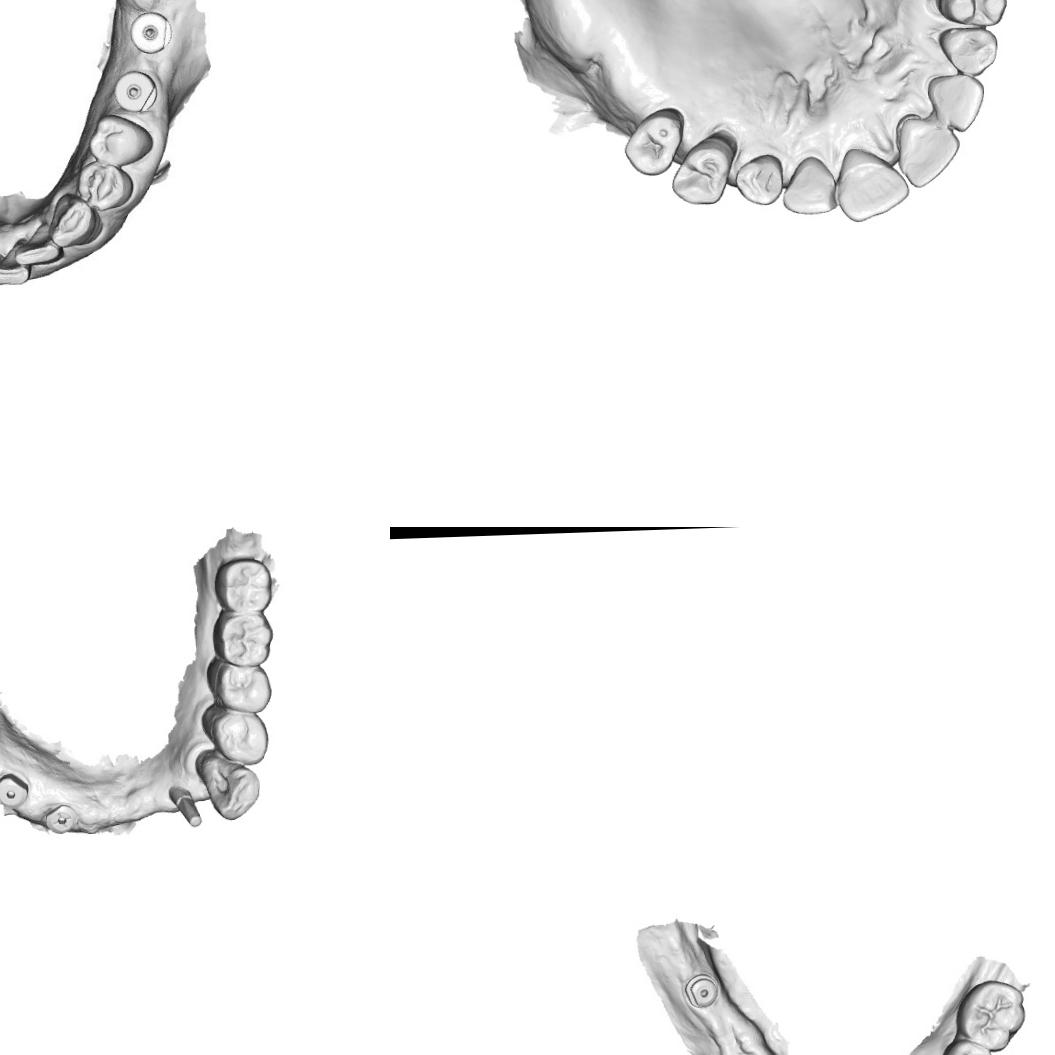abutment: (167, 782, 204, 833)
canine: (196, 750, 264, 822), (931, 24, 1003, 78), (732, 151, 787, 211), (52, 199, 106, 251)
implant: (112, 70, 164, 119), (128, 10, 173, 60), (682, 972, 720, 1009), (0, 771, 30, 809)
implant_plus: (40, 801, 80, 835)
incisor: (832, 142, 912, 224), (892, 114, 963, 190), (922, 71, 988, 135), (780, 151, 839, 220), (19, 230, 62, 266), (0, 246, 28, 288)
molar: (954, 978, 1028, 1054), (212, 555, 274, 614), (210, 613, 274, 669)
premolar: (667, 136, 738, 208), (200, 700, 270, 766), (621, 109, 686, 178), (204, 654, 274, 714), (92, 115, 149, 166), (76, 164, 130, 212), (933, 0, 1011, 29), (939, 1037, 996, 1055)
